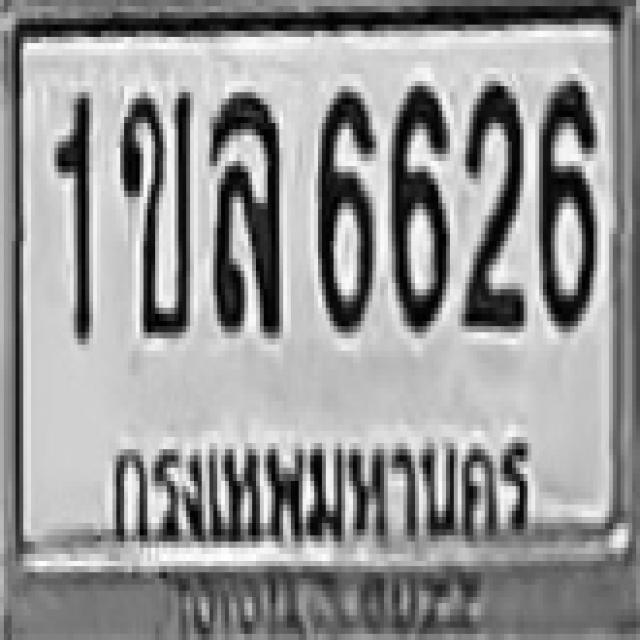1: (50, 86, 90, 339)
11KhorKhai: (116, 86, 190, 332)
2: (462, 77, 520, 323)
45LorLing: (208, 86, 281, 332)
6: (536, 74, 594, 326), (388, 80, 446, 326), (314, 86, 372, 326)
Bangkok: (100, 423, 546, 548)
